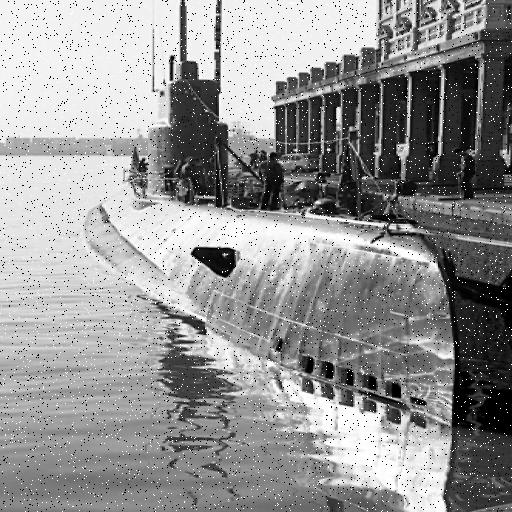submarine: (58, 62, 459, 430)
